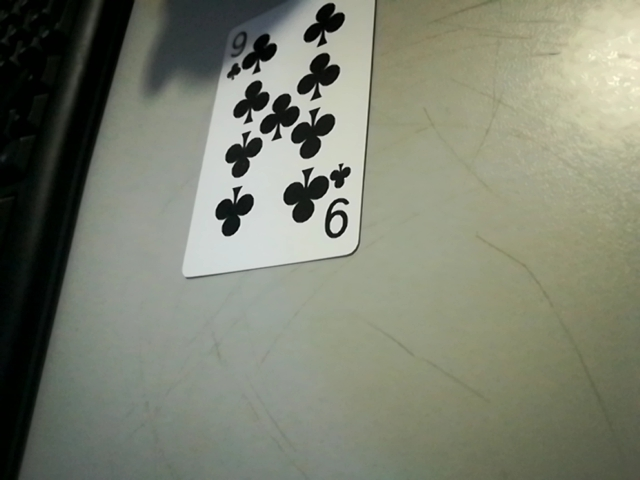mh 9: (315, 173, 361, 251)
